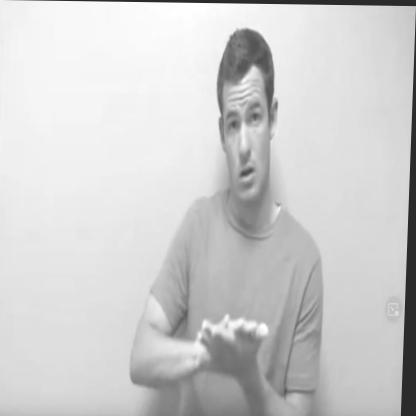NiceToMeetYou: (170, 292, 270, 413)
